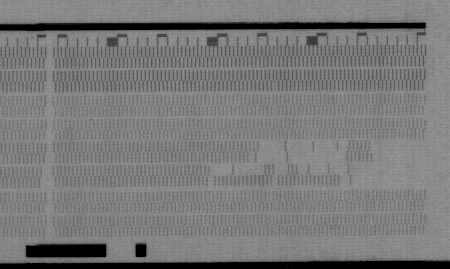Broken hole: (256, 137, 350, 175), (367, 137, 431, 191), (338, 159, 436, 188), (206, 164, 266, 177), (37, 167, 50, 191), (206, 174, 218, 188), (269, 175, 282, 187), (247, 150, 257, 163)
